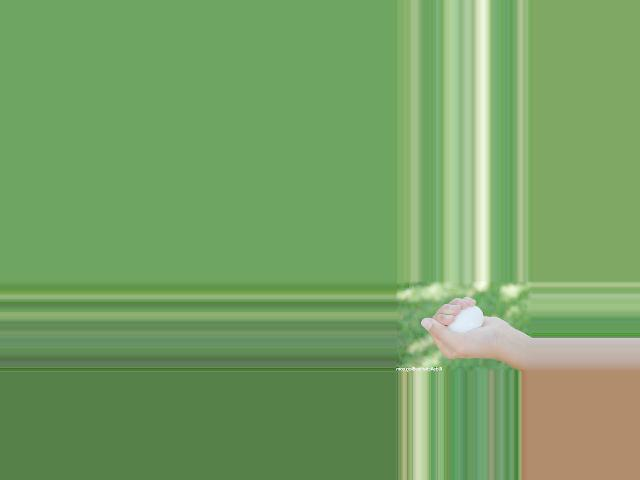egg: (446, 306, 483, 332)
